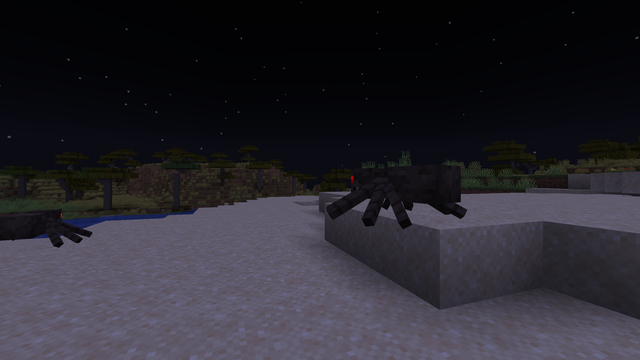araignees: (334, 157, 461, 228), (5, 205, 84, 251)
